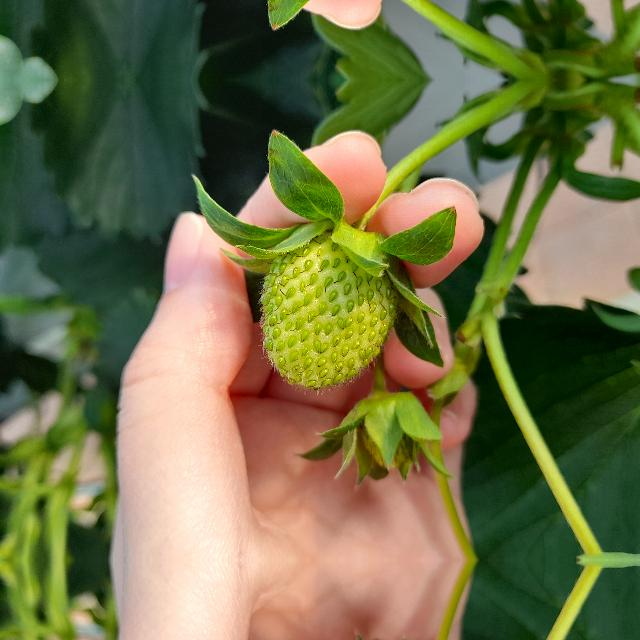Health_25: (257, 231, 398, 391)
